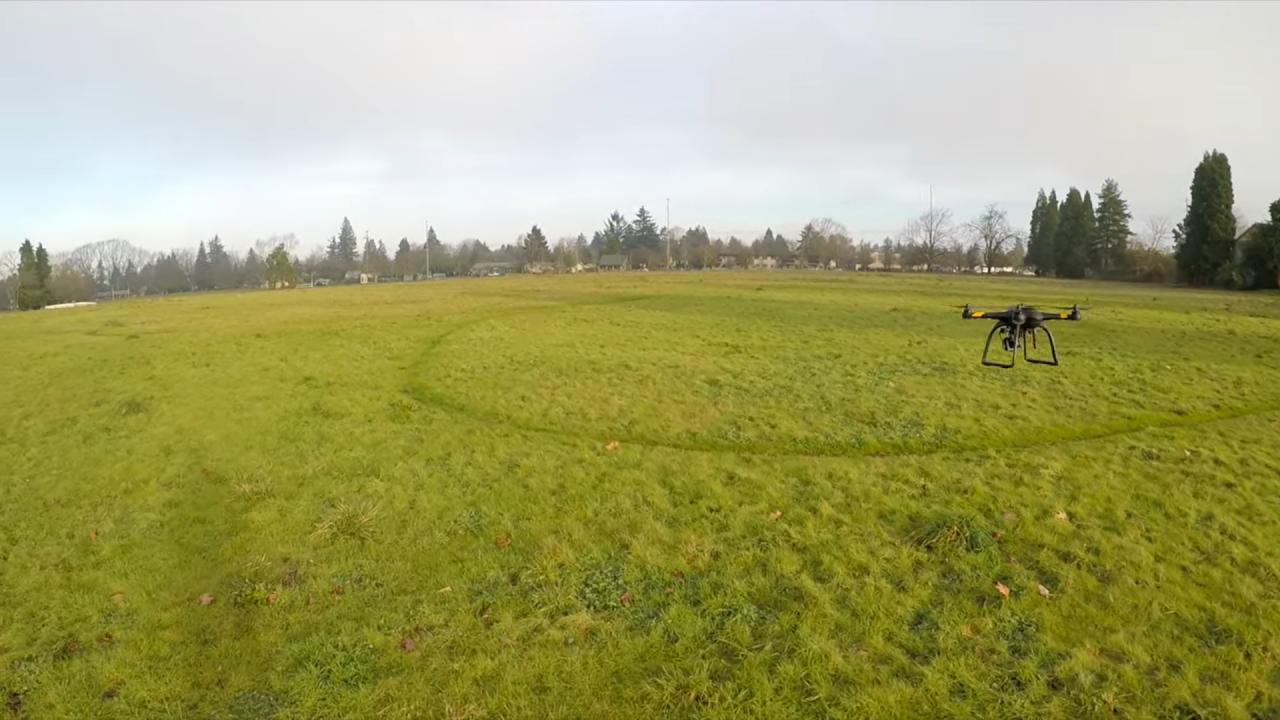Drone: (945, 288, 1094, 381)
